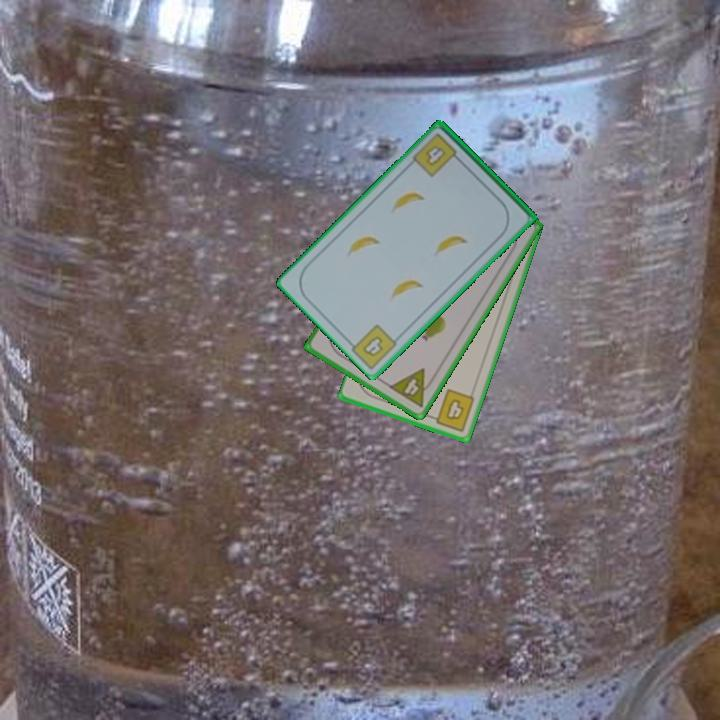4b: (409, 129, 465, 180), (426, 385, 478, 435), (359, 332, 386, 360)
4p: (385, 365, 439, 411)
